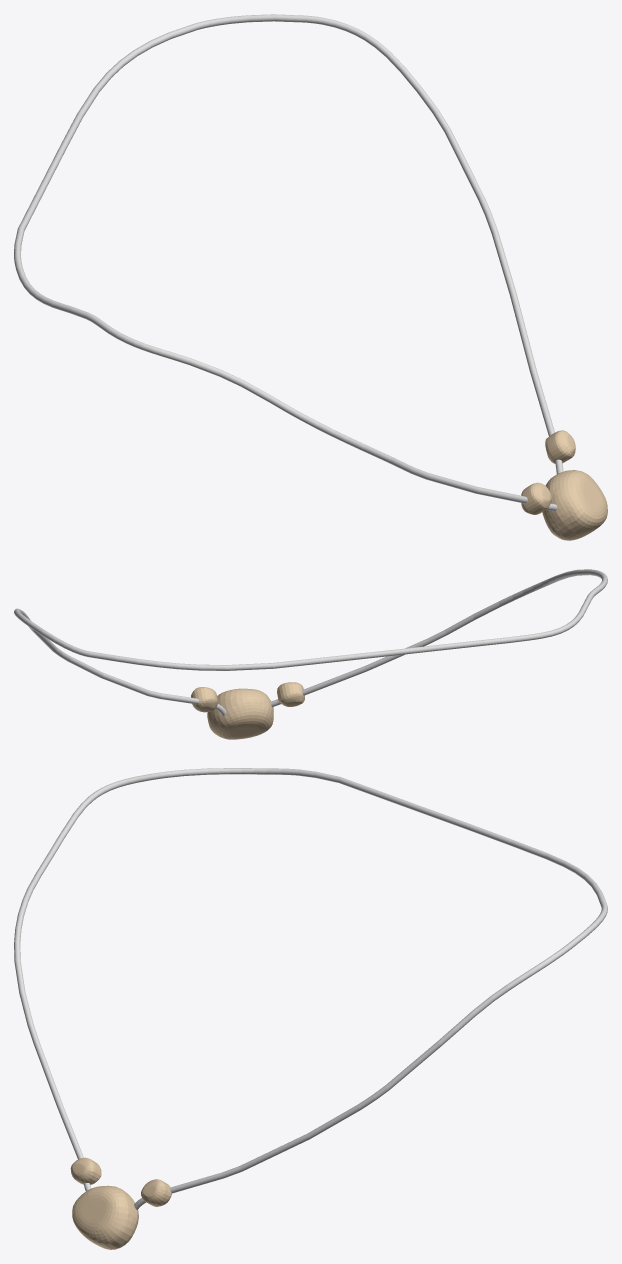
File: COSSACK_PENDANT_3#20.glb
3 renders of one model, top to bottom at view 1: azimuth 30°, elevation 25°; view 2: azimuth 150°, elevation 25°; view 3: azimuth 270°, elevation 25°, orthographic. The views are drawn at different scales.
Parts seen in each view (by area): view 1: ожерелье.2-глаз_0, ожерелье.2-Material.21; view 2: ожерелье.2-глаз_0, ожерелье.2-Material.21; view 3: ожерелье.2-глаз_0, ожерелье.2-Material.21.
Part boxes in pixels (<box>): ожерелье.2-глаз_0: <box>14,14,563,510</box>; ожерелье.2-Material.21: <box>521,430,607,540</box>; ожерелье.2-глаз_0: <box>14,569,607,715</box>; ожерелье.2-Material.21: <box>191,682,304,739</box>; ожерелье.2-глаз_0: <box>14,768,607,1210</box>; ожерелье.2-Material.21: <box>70,1157,172,1249</box>.
Bounding box in the file's own units: 1.69 × 1.01 × 1.81.
